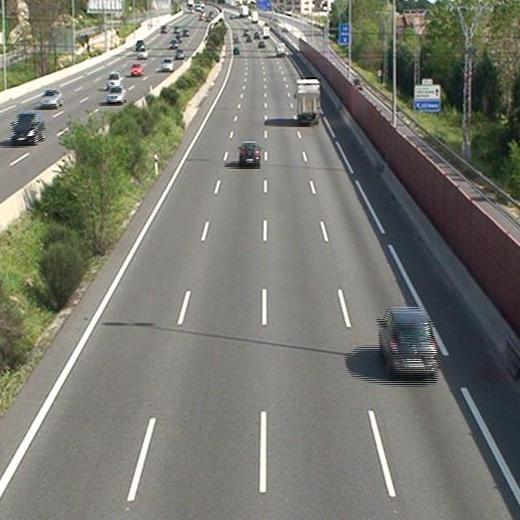car: (379, 308, 438, 374), (238, 141, 260, 166)
small-truck: (295, 79, 323, 121)
van: (275, 41, 286, 56)
